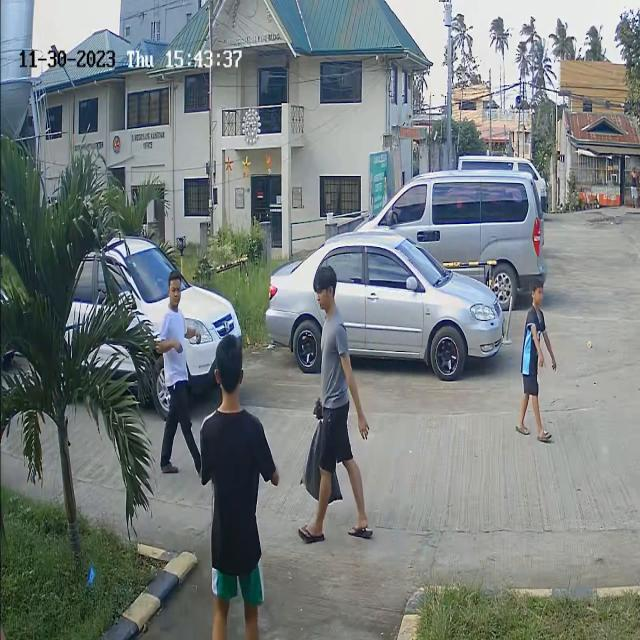person: (306, 264, 355, 396), (522, 274, 566, 398), (208, 337, 252, 460), (154, 275, 197, 362)
